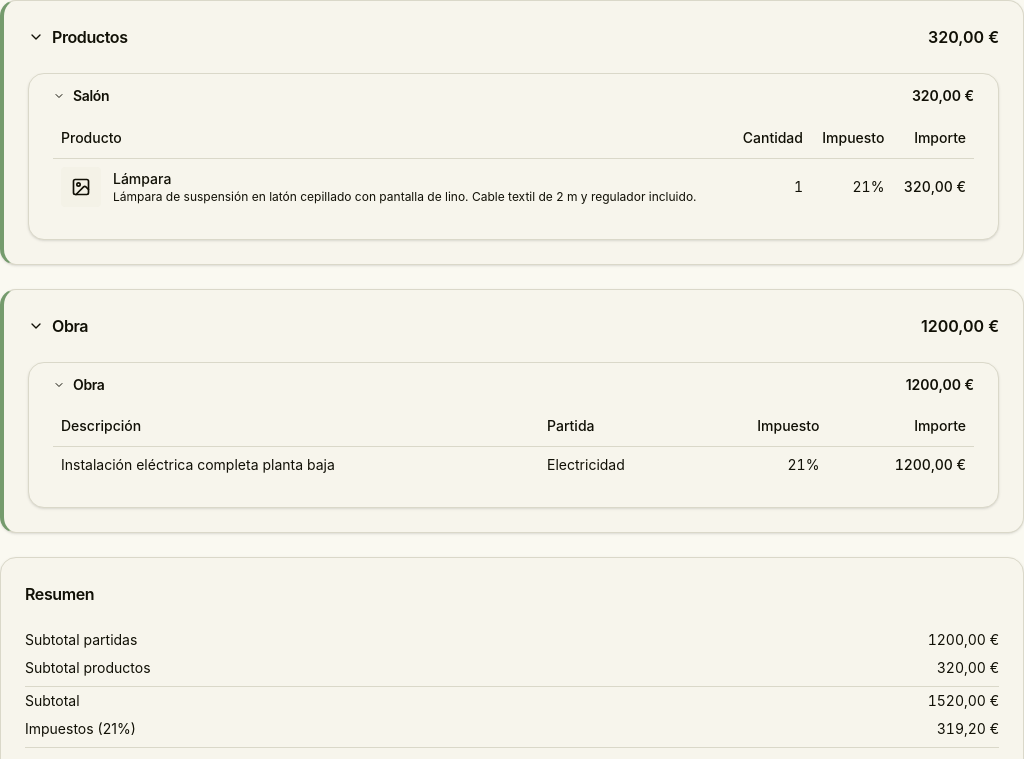
Test case: ViewProjectCostsClient descriptions › expands a truncated product description on click
Click the button named "Lámpara de suspensión en latón cepillado con pantalla de lino. Cable textil de 2 m y regulador incluido.".
click(405, 196)  # box [113, 188, 696, 204]
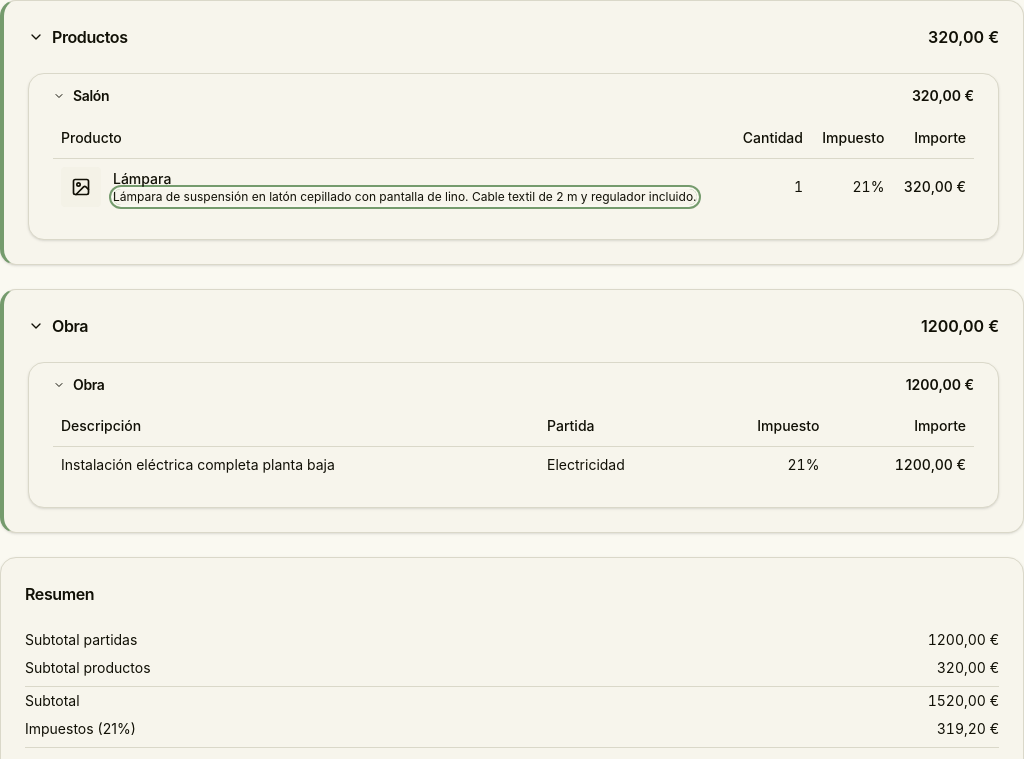
Now the button named "Lámpara de suspensión en latón cepillado con pantalla de lino. Cable textil de 2 m y regulador incluido." is expanded, box [113, 188, 696, 204]
